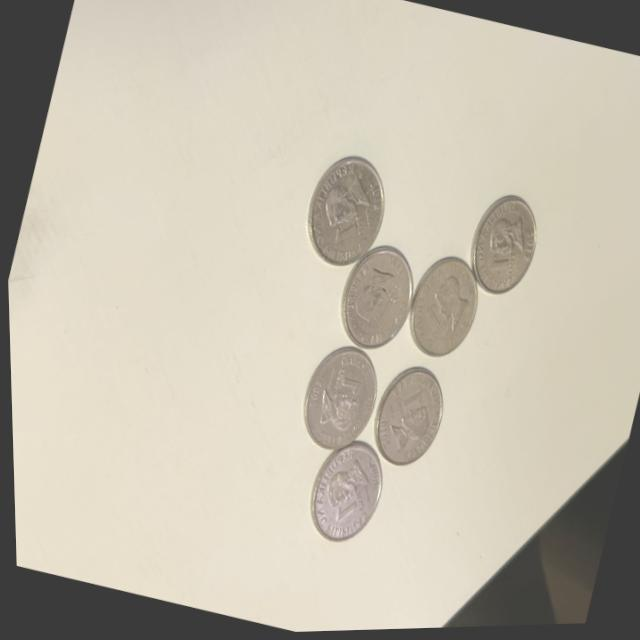1_Old_Front: (316, 208, 368, 259), (366, 285, 402, 338), (386, 376, 426, 422), (410, 300, 449, 344), (325, 361, 363, 397), (483, 246, 519, 283), (323, 495, 358, 533)
